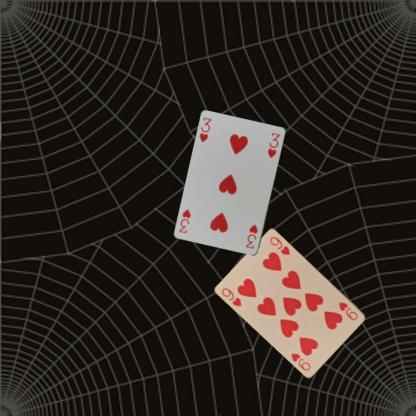3h: (197, 115, 213, 144), (243, 222, 259, 250)
9h: (219, 285, 243, 308), (336, 300, 360, 322)
